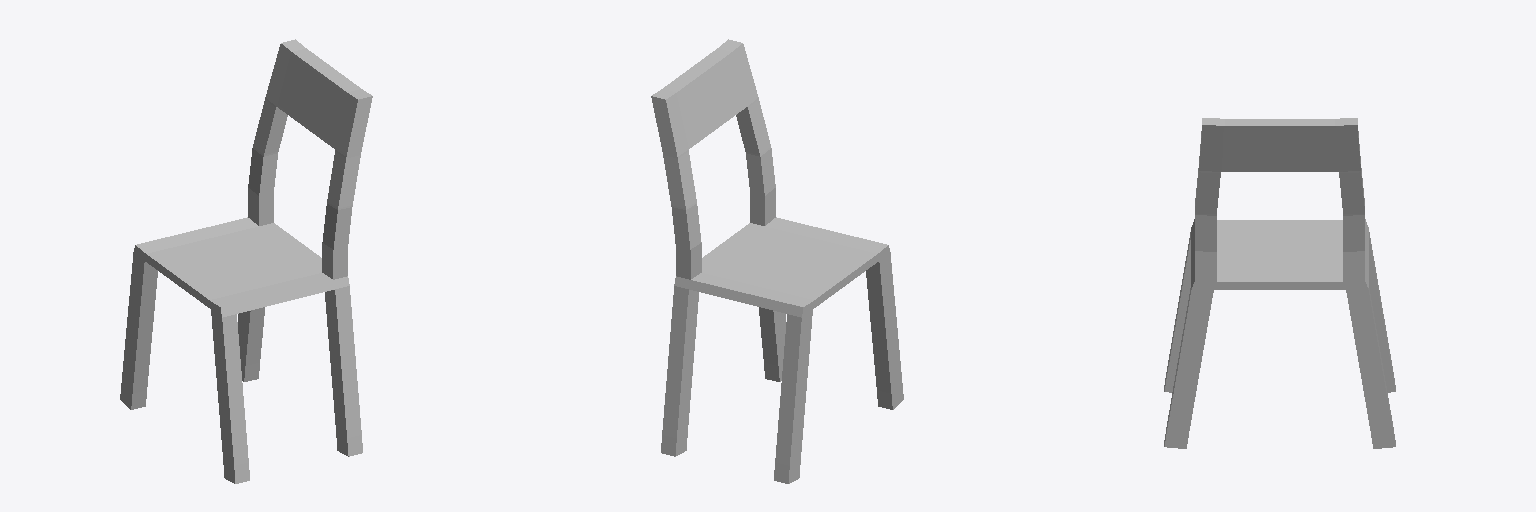
File: wood chair simple.obj
The picture shows the model from 3 angles: view 1: azimuth 30°, elevation 25°; view 2: azimuth 150°, elevation 25°; view 3: azimuth 270°, elevation 25°; orthographic projection.
Visible parts, largest first — view 1: polySurface1; view 2: polySurface1; view 3: polySurface1.
Boxes of the visible parts, x1,y1,x2,y2 form: polySurface1: [120, 39, 372, 483]; polySurface1: [651, 39, 903, 483]; polySurface1: [1164, 118, 1395, 448].
Bounding box in the file's own units: 69 × 143 × 88.27.